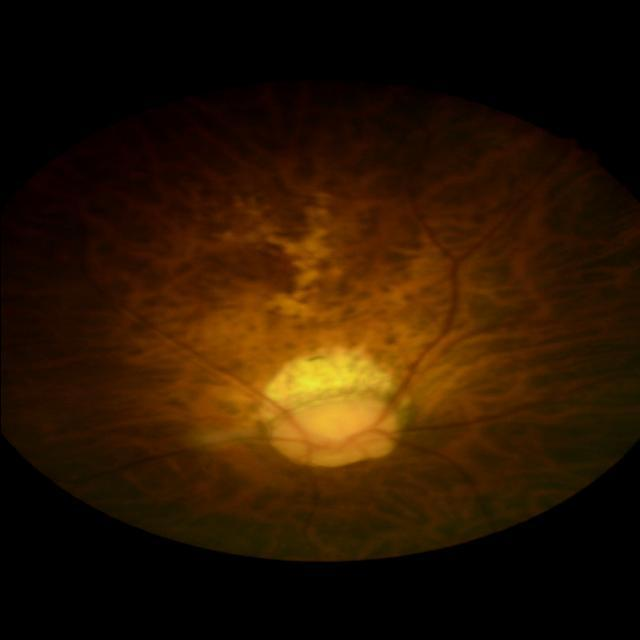cup: (285, 403, 381, 451)
disk: (263, 394, 405, 470)
